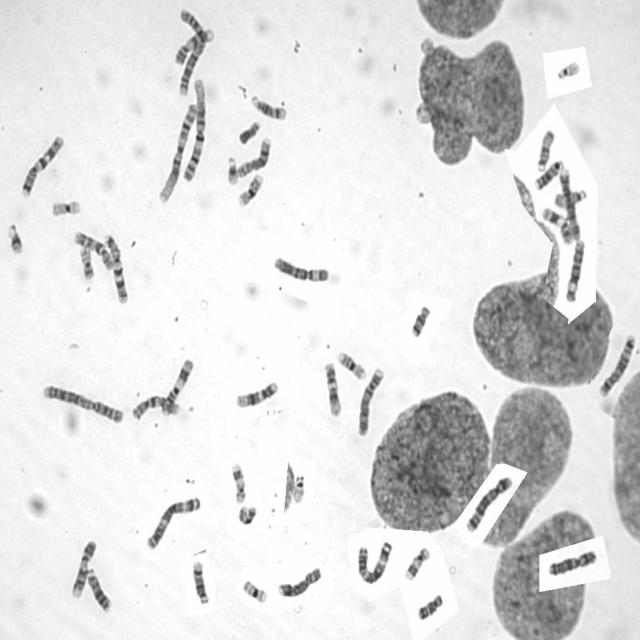A1: (156, 99, 200, 204), (180, 73, 209, 183)
A2: (39, 379, 125, 424), (175, 1, 208, 98)
A3: (142, 491, 202, 551), (355, 536, 394, 585)
B4: (354, 363, 385, 437), (556, 164, 582, 241)
B5: (463, 471, 514, 533), (596, 330, 637, 398)
C10: (71, 226, 115, 270), (129, 390, 182, 421)
C11: (159, 354, 195, 416), (540, 203, 574, 246)
C12: (232, 376, 280, 409), (322, 358, 344, 418)
C6: (272, 252, 331, 283), (562, 235, 586, 303)
C7: (18, 130, 66, 198), (101, 229, 130, 304)
C8: (234, 132, 274, 178), (276, 562, 324, 599)
C9: (172, 23, 216, 66), (70, 536, 98, 600)
D13: (84, 564, 113, 614), (532, 155, 565, 191)
D14: (248, 90, 288, 121), (189, 556, 211, 605)
D15: (534, 124, 557, 172), (551, 185, 588, 209)
E16: (335, 346, 368, 382), (235, 169, 265, 208)
E17: (402, 542, 432, 581), (229, 458, 248, 505)
E18: (415, 589, 445, 622), (408, 300, 432, 339)
F19: (240, 575, 269, 605), (49, 195, 83, 217)
F20: (77, 242, 96, 280), (235, 501, 258, 526)
G21: (3, 219, 26, 255), (224, 151, 240, 186)
G22: (554, 55, 582, 80), (290, 470, 306, 504)
X: (545, 544, 599, 576)
Y: (236, 117, 262, 145)
